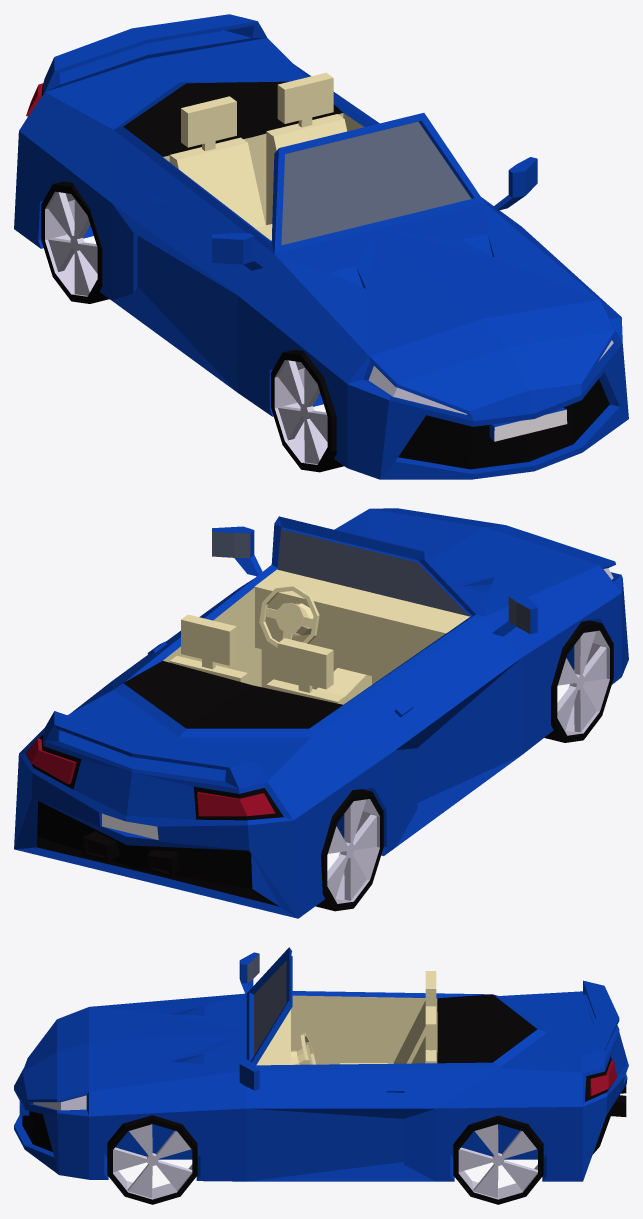
Rendered from bluecar.glb.
The picture shows the model from 3 angles, top to bottom: view 1: azimuth 30°, elevation 25°; view 2: azimuth 150°, elevation 25°; view 3: azimuth 270°, elevation 25°; orthographic projection. The views are drawn at different scales.
Visible parts, largest first — view 1: Roadster, Roadster wheel front right, Roadster wheel rear right; view 2: Roadster, Roadster wheel front right, Roadster wheel rear right; view 3: Roadster, Roadster wheel front left, Roadster wheel rear left.
Part boxes in pixels (x1,y1,x2,y2): Roadster: (14,14,628,479); Roadster wheel front right: (271,349,343,472); Roadster wheel rear right: (41,181,109,303); Roadster: (14,508,628,918); Roadster wheel front right: (544,620,613,742); Roadster wheel rear right: (315,789,383,911); Roadster: (14,947,628,1181); Roadster wheel front left: (107,1115,197,1204); Roadster wheel rear left: (453,1115,543,1204).
Size of the model in its own units: 2.63 by 1.84 by 5.73.
